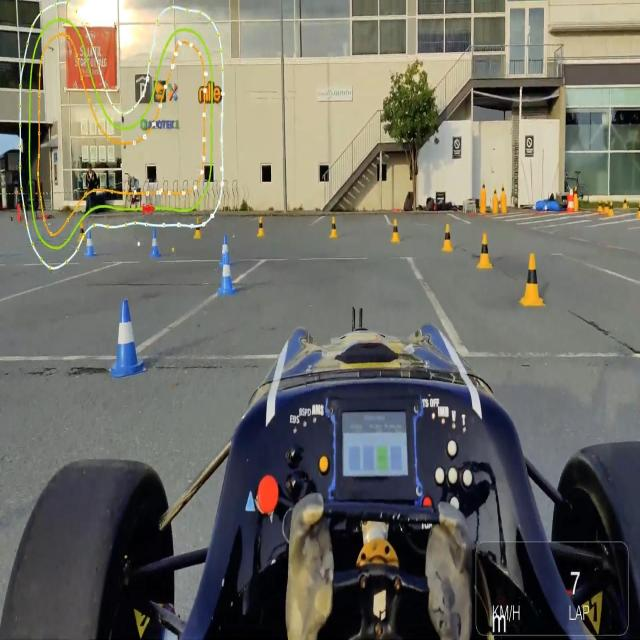blue_cone: (110, 298, 148, 377), (218, 253, 237, 295), (219, 235, 232, 267), (150, 228, 162, 259), (84, 229, 96, 256)
yellow_cone: (521, 254, 544, 305), (477, 233, 493, 268), (442, 223, 454, 253), (391, 219, 400, 243), (329, 216, 338, 237), (194, 218, 202, 238), (257, 218, 265, 238)
